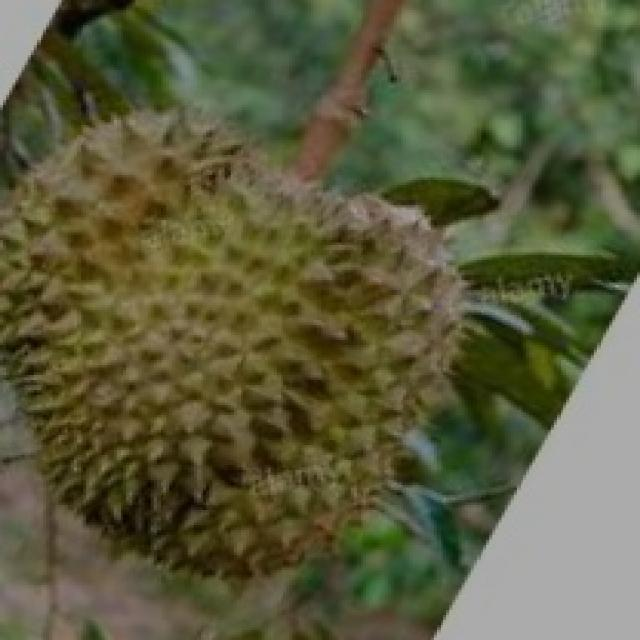fruit: (0, 245, 360, 627)
